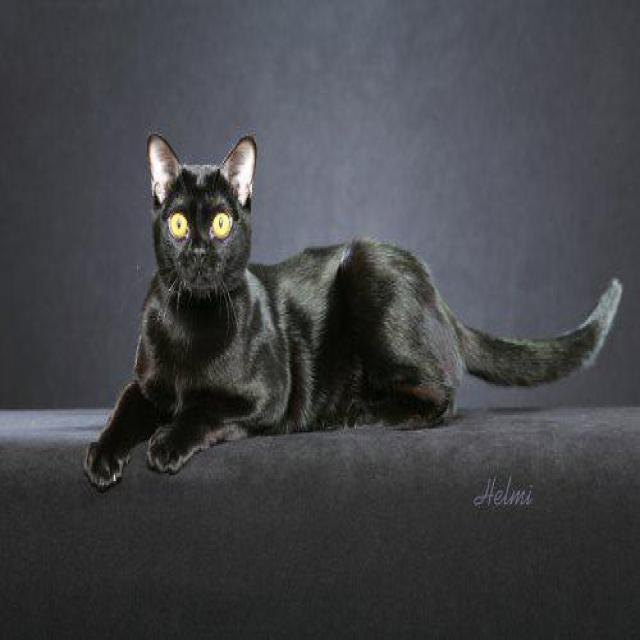cat: (83, 133, 622, 491)
